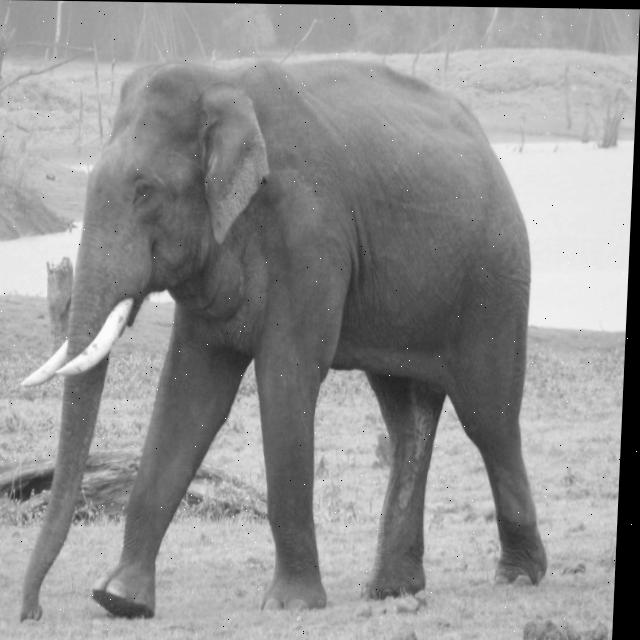Elephant: (11, 52, 569, 629)
